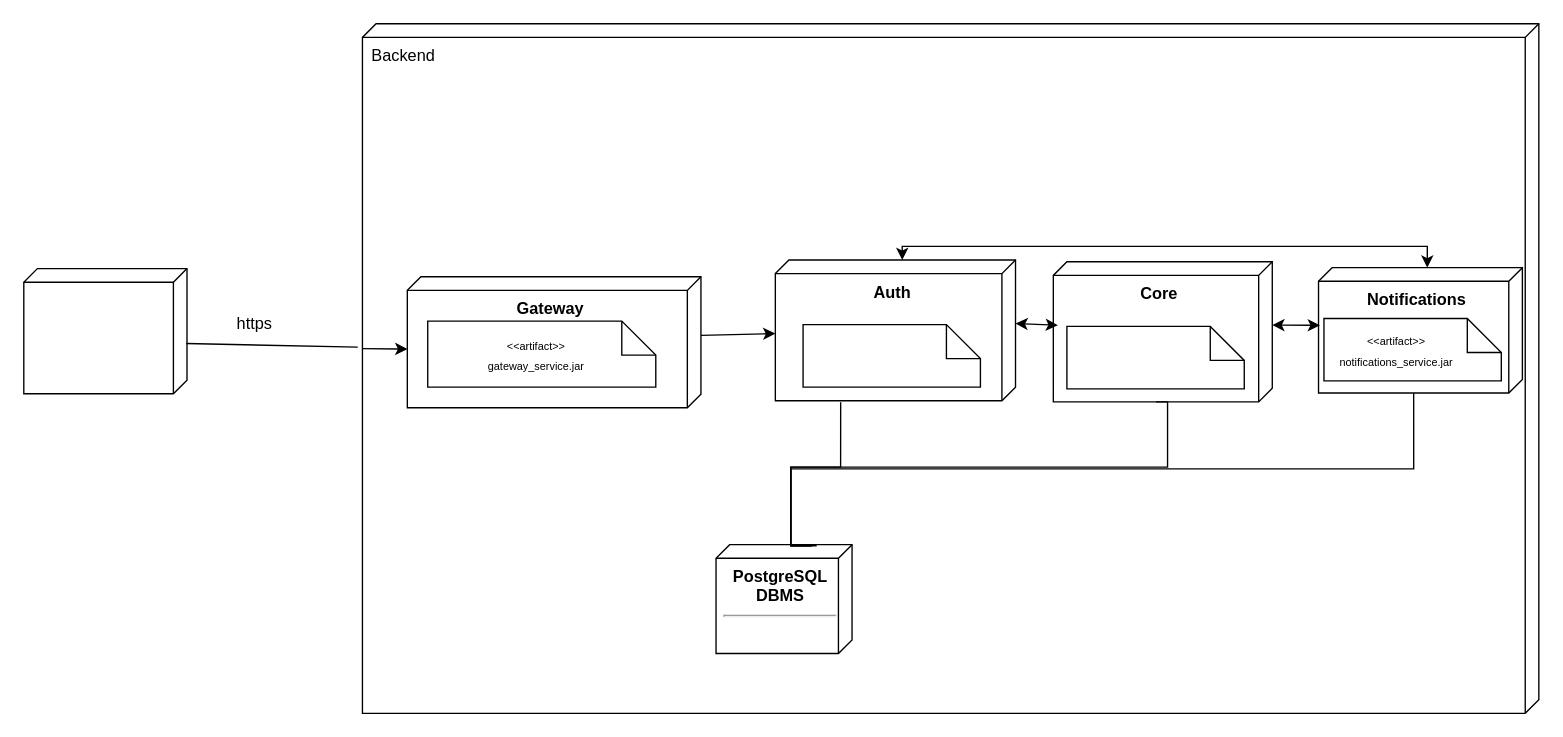
The diagram is 1563 pixels wide and 737 high, and some of its shapes have lost their labels. Each missing label, with the box of its shape:
<<artifact>> auth_service.jar: (802, 323, 980, 387)
<<artifact>> core_service.jar: (1066, 325, 1244, 389)
Mobile Client {OS= IOS}: (22, 267, 187, 394)
